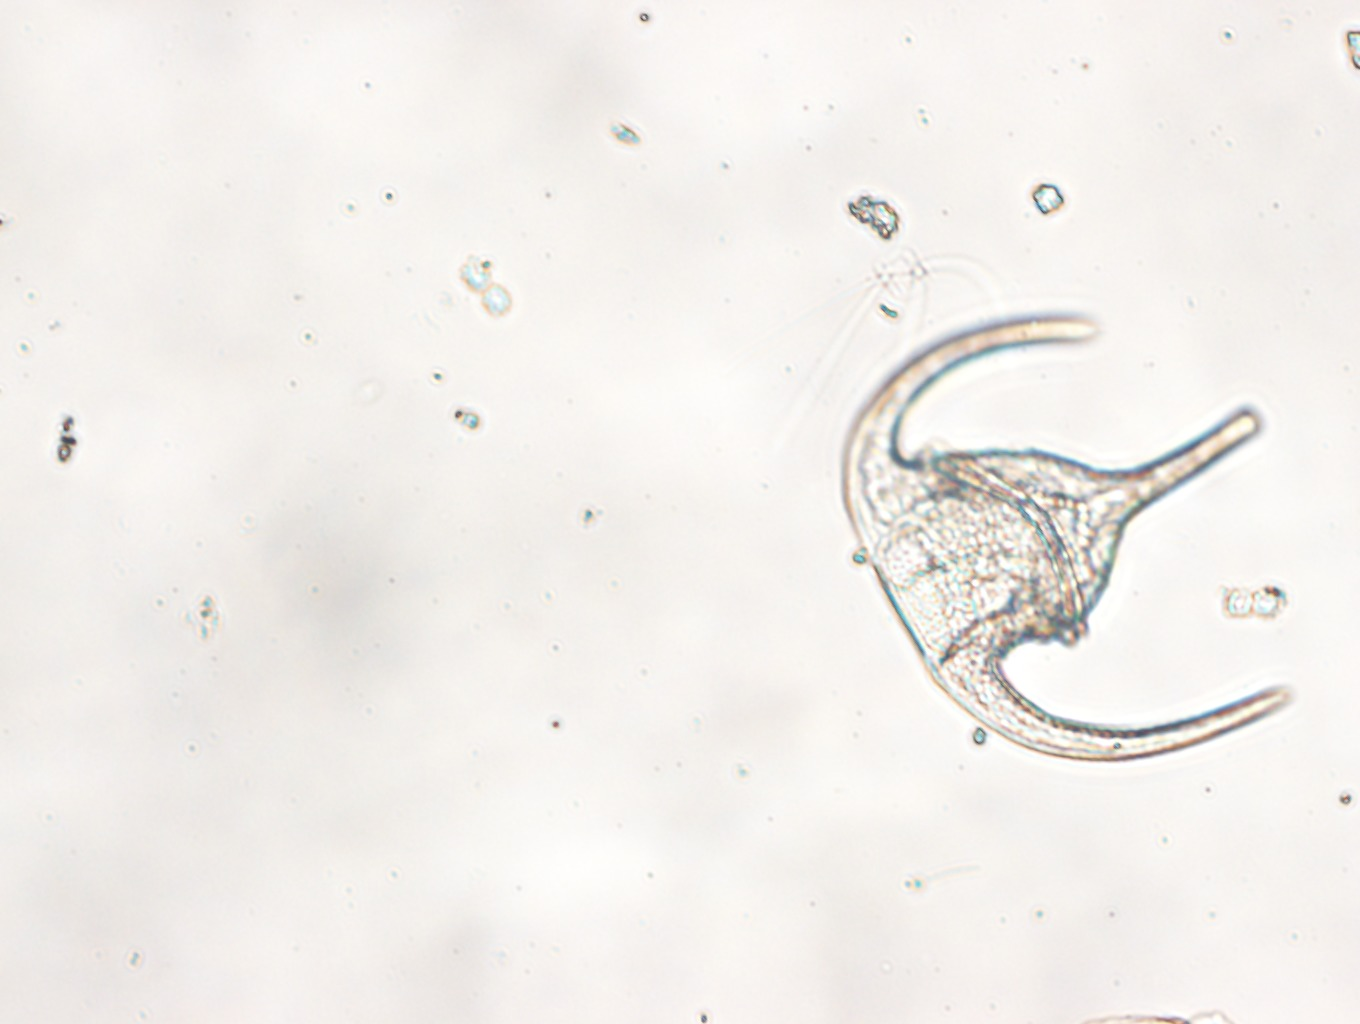ceratium tripos: (840, 315, 1289, 762)
